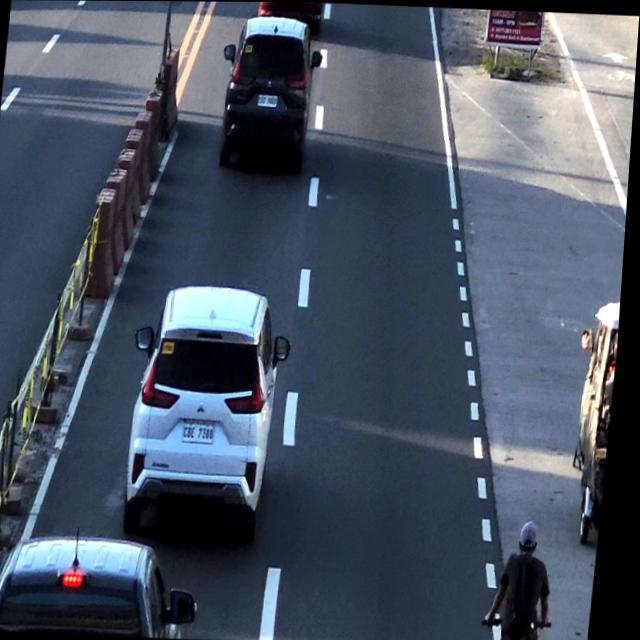Car: (125, 285, 298, 532), (0, 538, 210, 638), (215, 15, 318, 171)
License-Plate: (186, 420, 222, 447), (258, 89, 280, 108)
